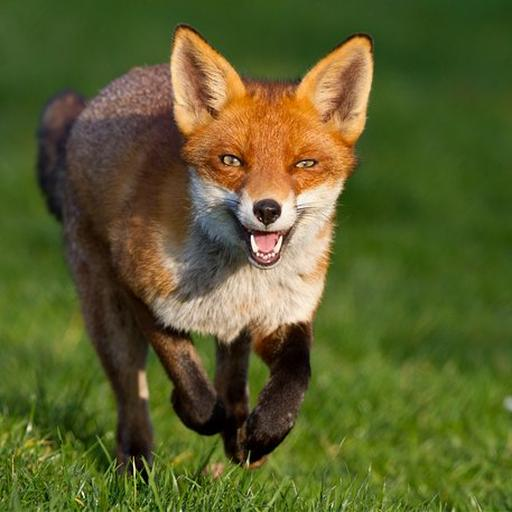Fox: (27, 27, 382, 486)
